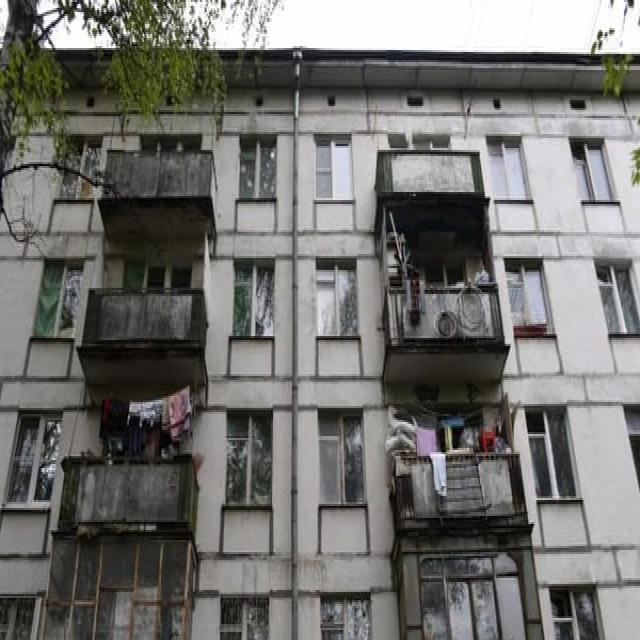window: (5, 408, 60, 512), (526, 408, 584, 502), (317, 412, 370, 508), (220, 408, 269, 508), (503, 250, 558, 334), (227, 250, 274, 338), (596, 258, 640, 348), (35, 268, 82, 344), (59, 134, 101, 216), (312, 264, 360, 330), (232, 138, 280, 204), (573, 136, 620, 202), (312, 134, 353, 202), (491, 134, 531, 200)
